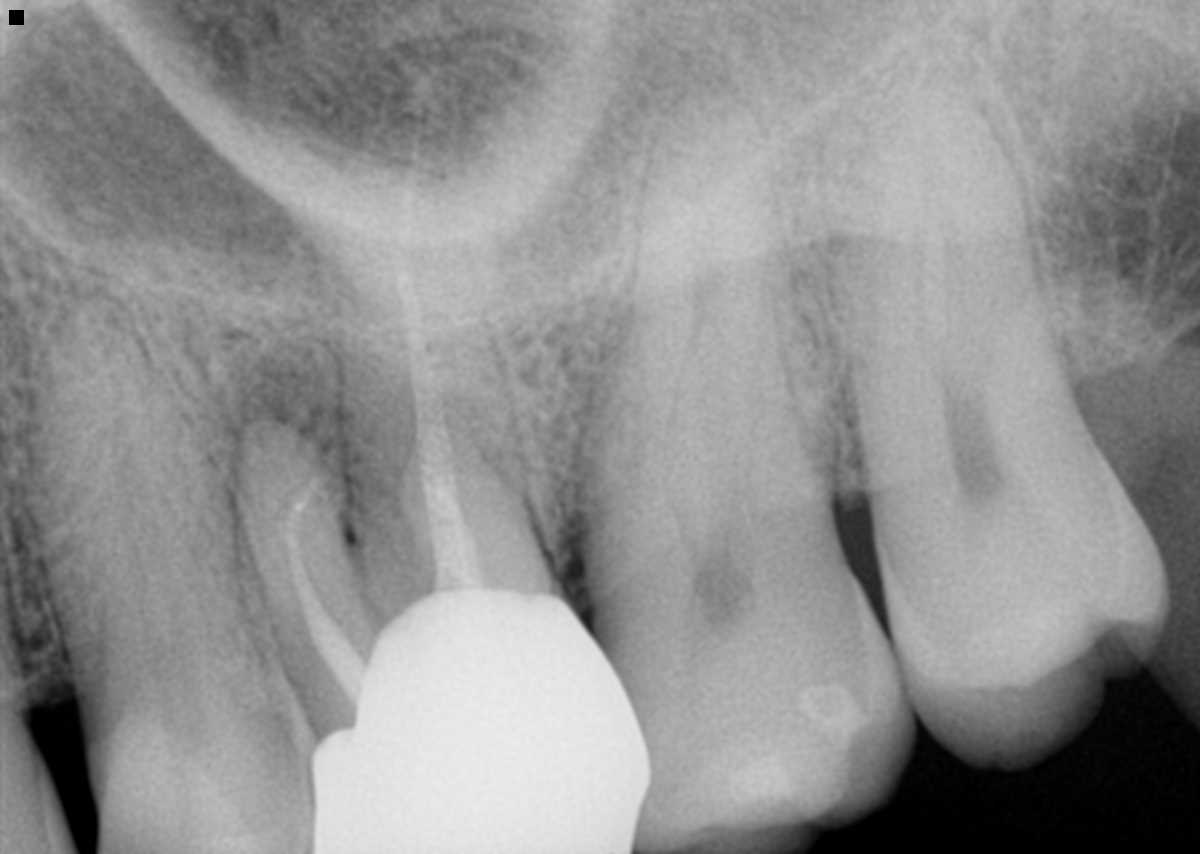Apical Lesion: (220, 329, 402, 516)
Distal Root: (908, 94, 1077, 456), (733, 266, 840, 564), (388, 416, 550, 603)
Main Canal: (111, 416, 202, 727)
Main Root: (30, 285, 283, 749)
Mesial Root: (843, 125, 971, 519), (578, 269, 714, 638), (228, 427, 385, 722)
Palatal Root: (334, 116, 553, 617), (613, 86, 834, 548), (866, 69, 1085, 531)
Root Canal Filling: (398, 131, 484, 587), (285, 472, 370, 696)
